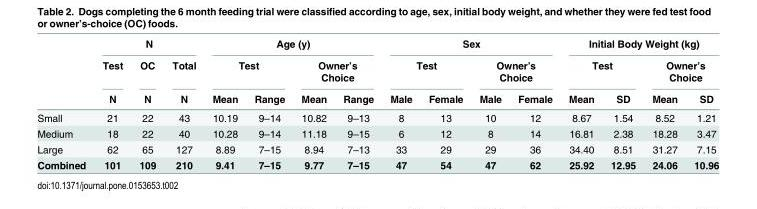table: (36, 37, 718, 170)
table column: (36, 37, 93, 170), (419, 37, 470, 170), (509, 37, 559, 170), (245, 37, 292, 170), (334, 37, 381, 170), (203, 37, 245, 170), (292, 37, 334, 170), (559, 37, 601, 170), (601, 37, 643, 170), (643, 37, 685, 170), (163, 37, 203, 170), (470, 37, 509, 170), (381, 37, 419, 170), (93, 37, 130, 170), (130, 37, 163, 170), (685, 37, 718, 170)
table column header: (36, 37, 718, 107)
table row: (36, 53, 718, 87), (36, 87, 718, 107), (36, 107, 718, 125), (36, 37, 718, 53), (36, 125, 718, 141), (36, 141, 718, 156), (36, 156, 718, 170)
table spanning cell: (203, 53, 292, 87), (292, 53, 381, 87), (381, 53, 470, 87), (470, 53, 559, 87), (559, 53, 643, 87), (203, 37, 381, 53), (381, 37, 559, 53), (643, 53, 718, 87), (559, 37, 718, 53), (163, 53, 203, 107), (93, 53, 130, 107), (130, 53, 163, 107), (93, 37, 203, 53)
